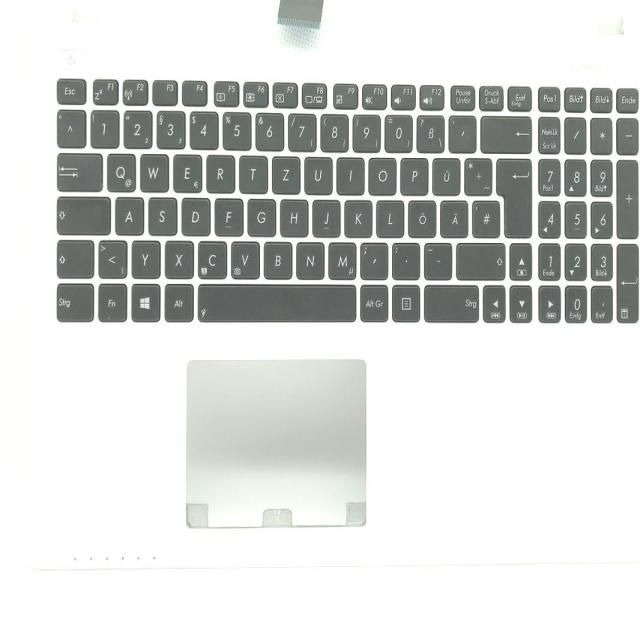0: (383, 112, 412, 151)
1: (89, 107, 118, 147)
2: (122, 108, 151, 147)
3: (155, 108, 185, 148)
4: (188, 109, 217, 148)
5: (221, 109, 251, 148)
6: (254, 110, 284, 149)
7: (287, 111, 315, 150)
8: (319, 111, 348, 151)
9: (351, 112, 380, 151)
a: (113, 194, 143, 234)
accent: (448, 113, 476, 152)
ae: (439, 197, 468, 237)
alt-left: (163, 281, 193, 321)
altgr-right: (358, 282, 388, 320)
b: (262, 240, 292, 277)
c: (197, 238, 227, 278)
caret: (55, 107, 85, 147)
comma: (359, 240, 388, 278)
d: (180, 195, 210, 235)
del: (479, 113, 531, 153)
e: (171, 151, 202, 191)
enter: (495, 155, 531, 235)
f: (213, 196, 243, 235)
g: (246, 196, 276, 235)
h: (279, 196, 308, 236)
hash: (470, 197, 500, 237)
i: (335, 154, 364, 193)
j: (311, 197, 340, 237)
k: (343, 196, 372, 236)
keyboard: (47, 69, 640, 333)
l: (375, 197, 404, 237)
less: (97, 237, 127, 277)
m: (327, 240, 356, 278)
minus: (422, 241, 452, 278)
n: (294, 240, 324, 278)
o: (367, 155, 396, 193)
oe: (407, 197, 436, 237)
p: (399, 156, 428, 194)
plus: (463, 156, 492, 194)
point: (390, 241, 420, 278)
q: (105, 151, 136, 191)
r: (205, 152, 234, 192)
s: (147, 195, 177, 234)
shift-left: (54, 238, 93, 278)
shift-lock: (55, 194, 110, 234)
shift-right: (454, 240, 505, 278)
space: (196, 282, 355, 322)
ss: (415, 112, 444, 151)
strg-left: (53, 281, 93, 321)
strg-right: (423, 282, 481, 321)
t: (238, 153, 267, 193)
tab: (55, 150, 102, 190)
u: (303, 154, 332, 193)
ue: (431, 156, 460, 194)
v: (229, 239, 259, 277)
w: (138, 151, 168, 190)
x: (164, 238, 194, 278)
y: (130, 238, 160, 278)
z: (270, 153, 300, 193)
